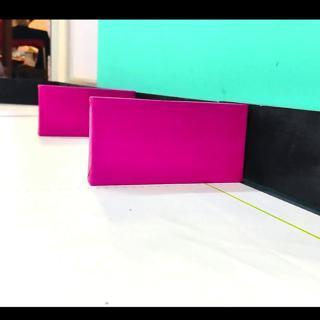xparking: (92, 100, 247, 186), (40, 88, 89, 136)
